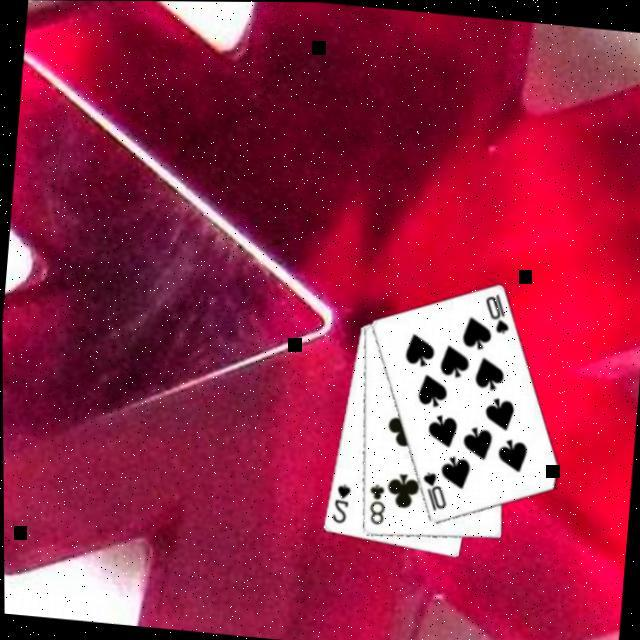10S: (476, 289, 511, 337), (413, 468, 448, 515)
2S: (325, 479, 351, 526)
8C: (360, 480, 386, 528)
